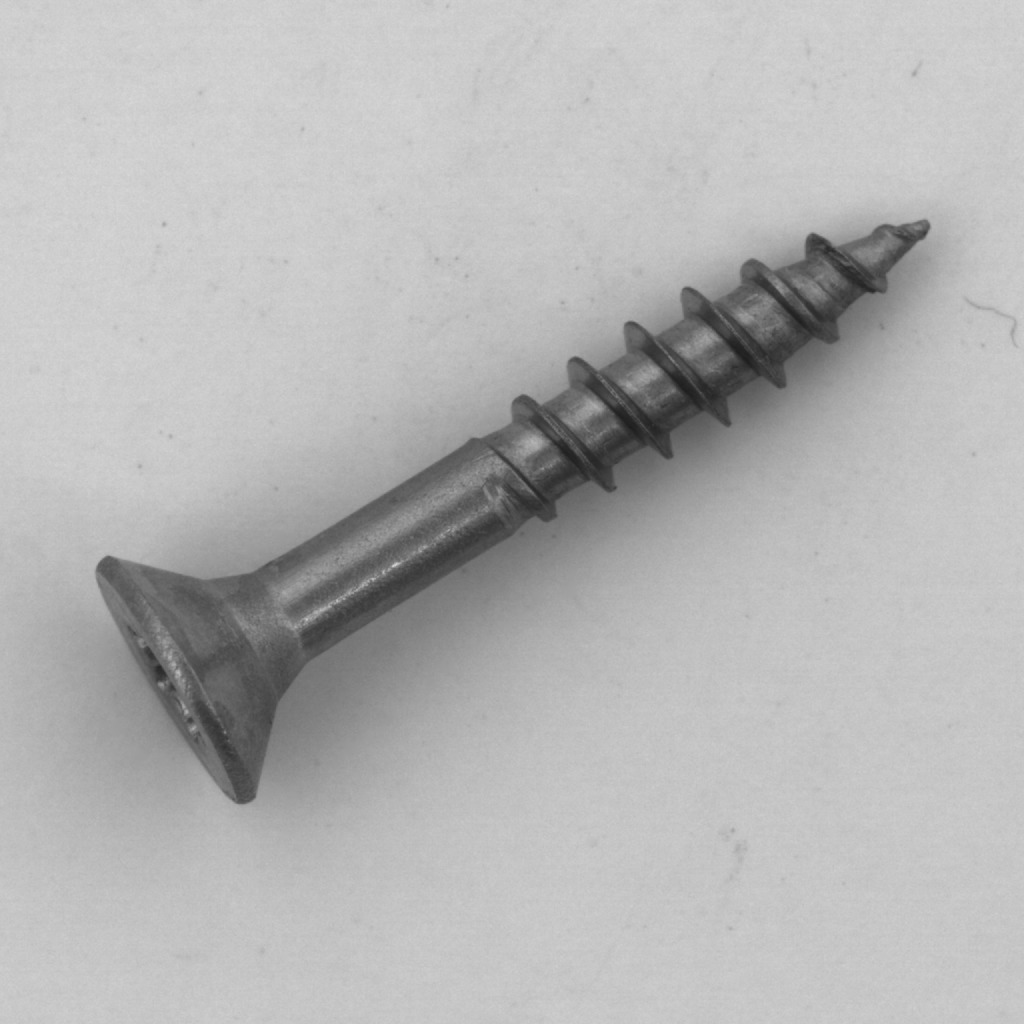good: (79, 188, 954, 830)
